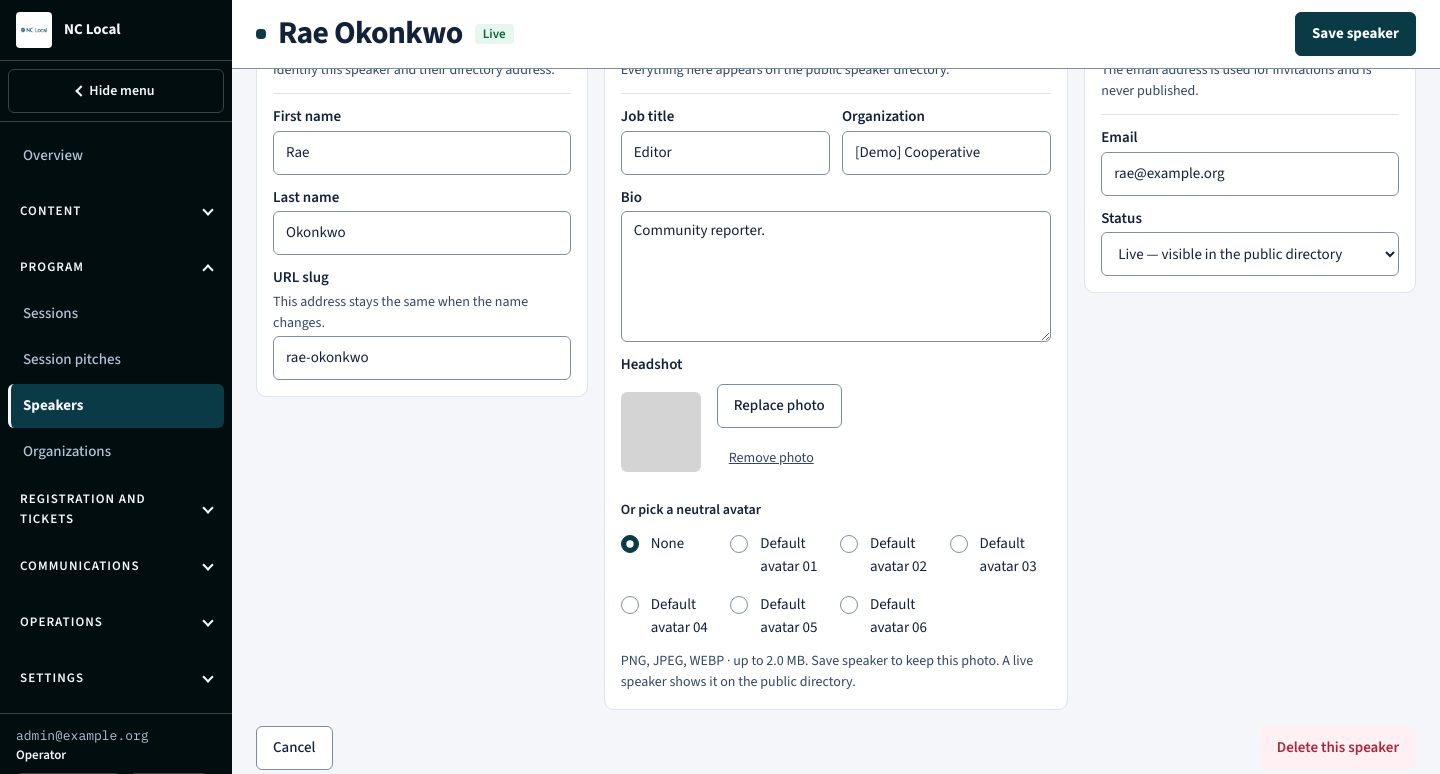
speaker editor › returns to the speaker list on Cancel
(page scrolled)
Click the link "Cancel": [294, 748] box [256,726,332,770]
(page scrolled)
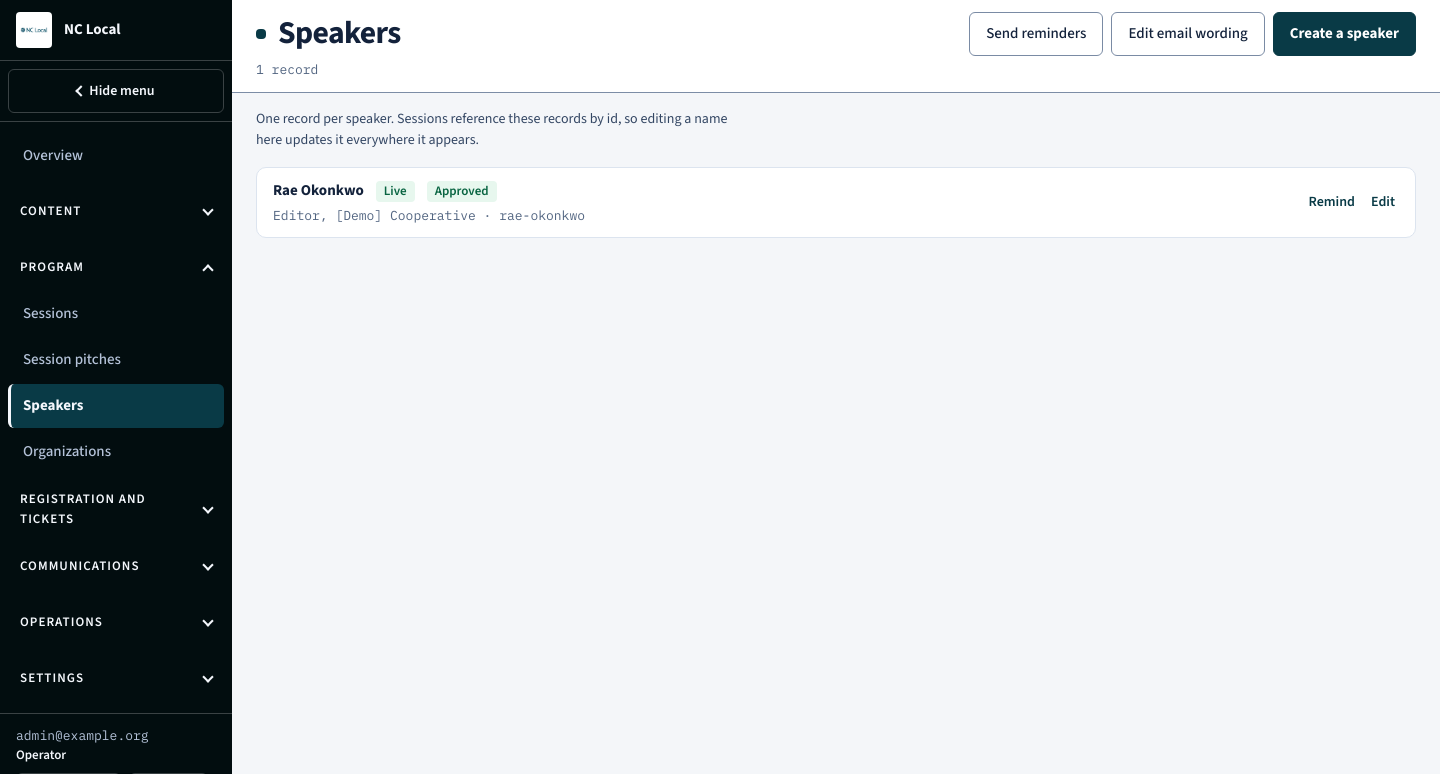
Check: the heading "Speakers" is shown, box [278,15,401,53]
